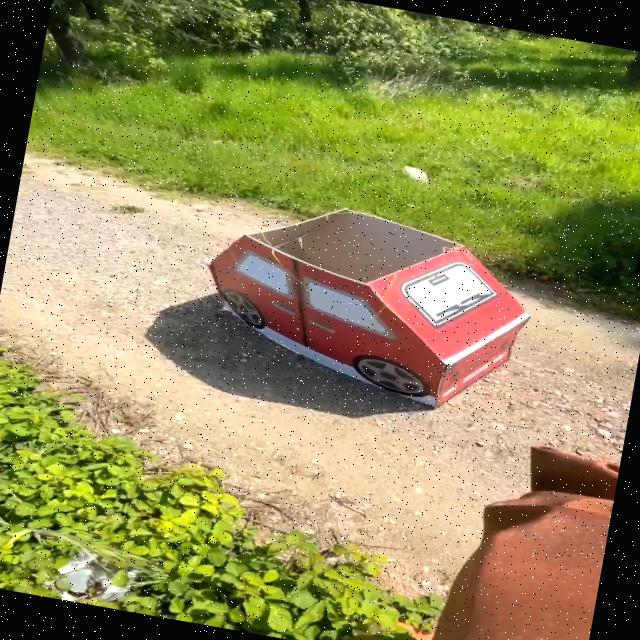red_car: (187, 178, 576, 432)
